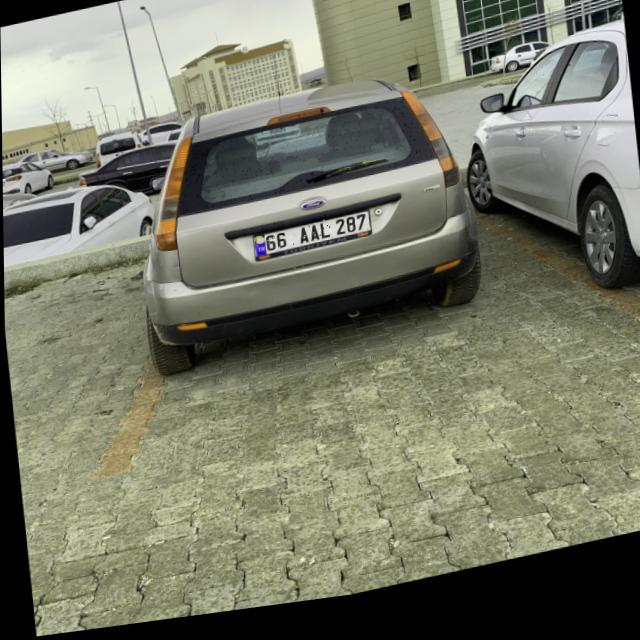license_plate: (253, 220, 369, 263)
